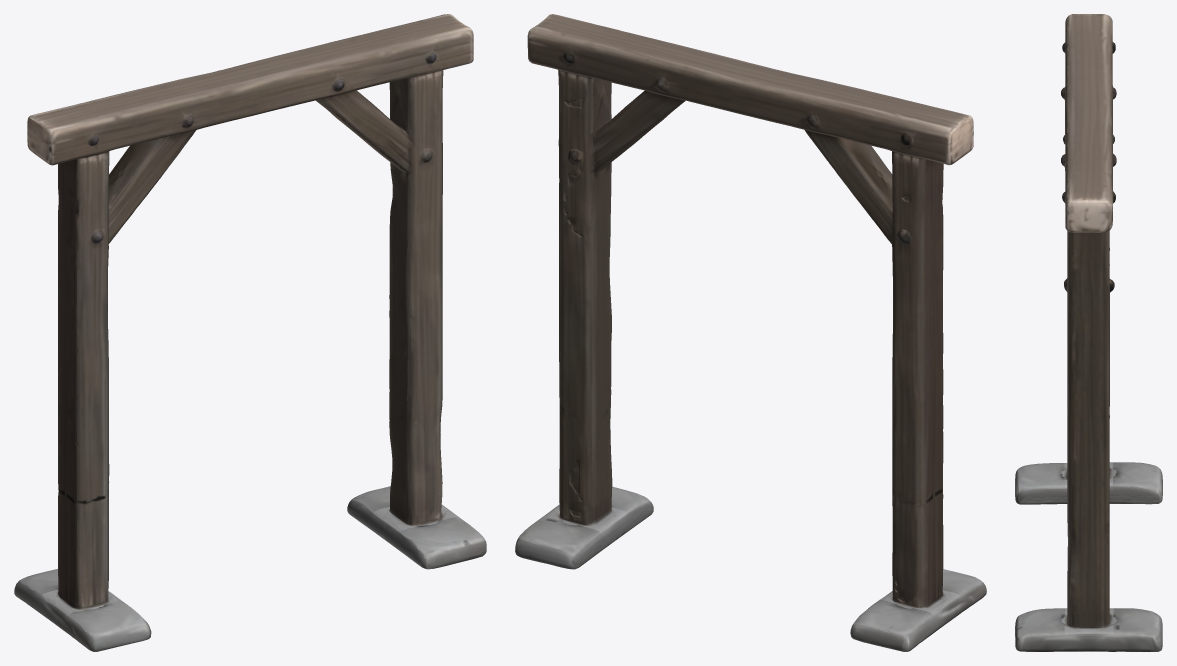
File: gallows.glb
3 renders of one model, left to right at view 1: azimuth 30°, elevation 25°; view 2: azimuth 150°, elevation 25°; view 3: azimuth 270°, elevation 25°, orthographic. The views are drawn at different scales.
Parts seen in each view (by area): view 1: geometry_0; view 2: geometry_0; view 3: geometry_0.
Part boxes in pixels (x1,y1,x2,y2): geometry_0: (14,14,486,651); geometry_0: (515,14,986,651); geometry_0: (1015,14,1162,651).
Size of the model in its own units: 2.8 by 3.2 by 0.9312.
Materials: 1 (1 with a texture image).
